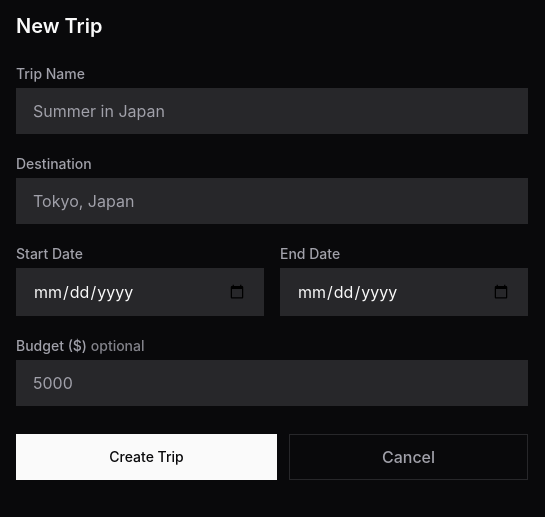
Test: CreateTrip shows error when end date is before start date
This screenshot has width=545, height=517.
In the field labelled "Trip Name": {"x": 272, "y": 111} top-left (16, 88), bottom-right (528, 134), type "Test Trip"
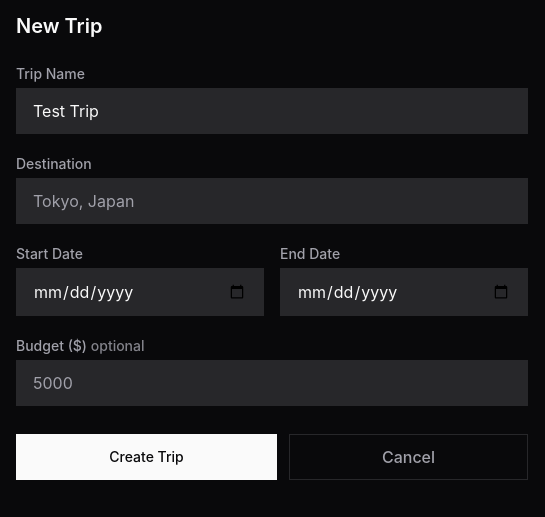
In the field labelled "Destination": {"x": 272, "y": 201} top-left (16, 178), bottom-right (528, 224), type "Paris"
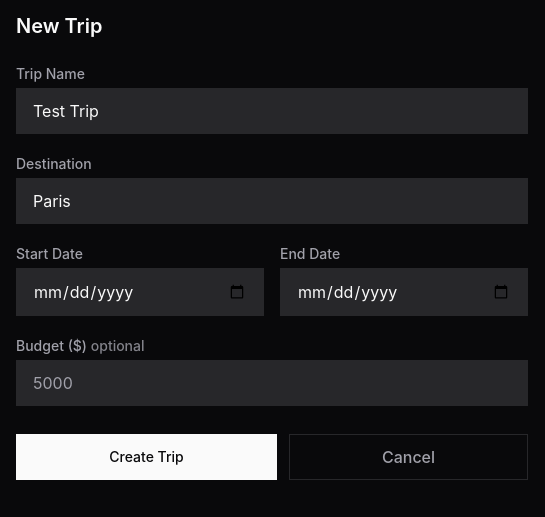
In the date field labelled "Start Date": {"x": 140, "y": 292} top-left (16, 268), bottom-right (264, 316), type "2026-05-10"
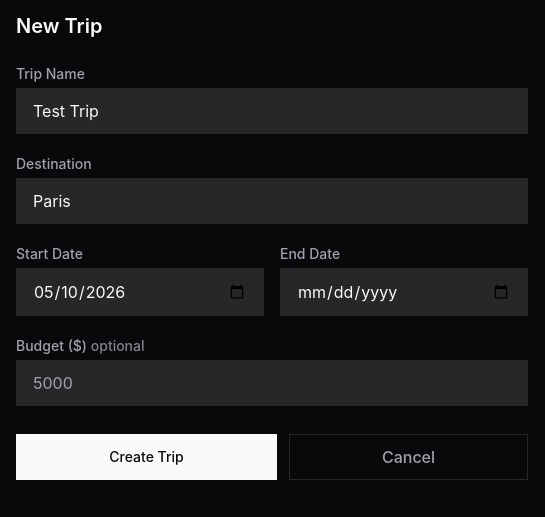
In the date field labelled "End Date": {"x": 404, "y": 292} top-left (280, 268), bottom-right (528, 316), type "2026-05-05"
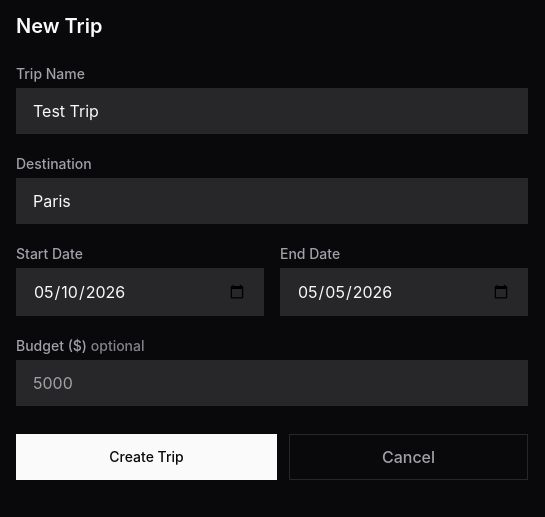
Click the button "Create Trip": {"x": 146, "y": 457} top-left (16, 434), bottom-right (277, 480)
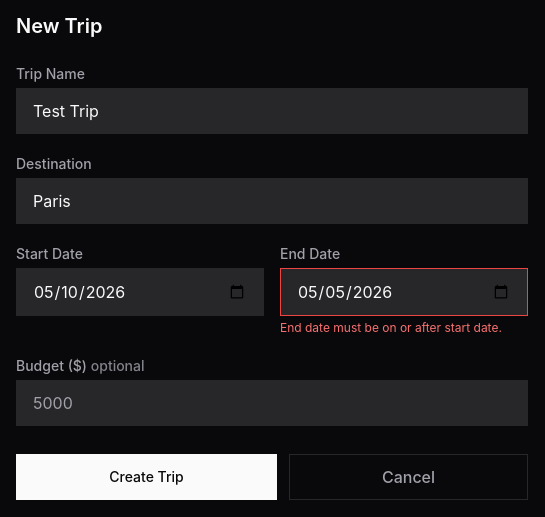
Expected: the text "End date must be on or after start date." is shown, top-left (280, 320), bottom-right (528, 336)
